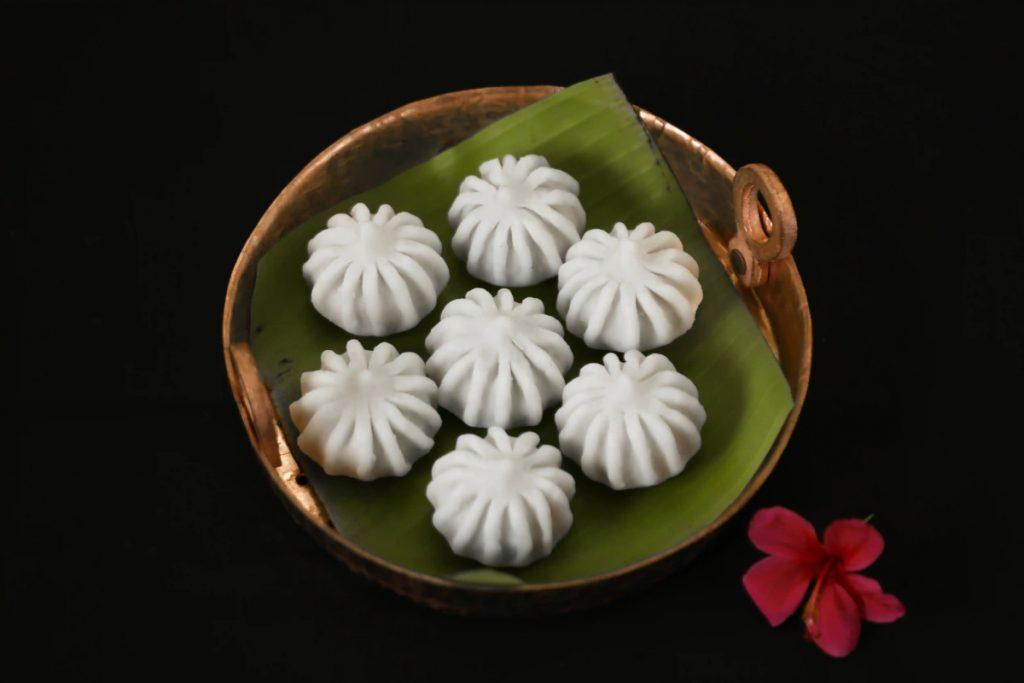modak: (325, 221, 663, 462)
